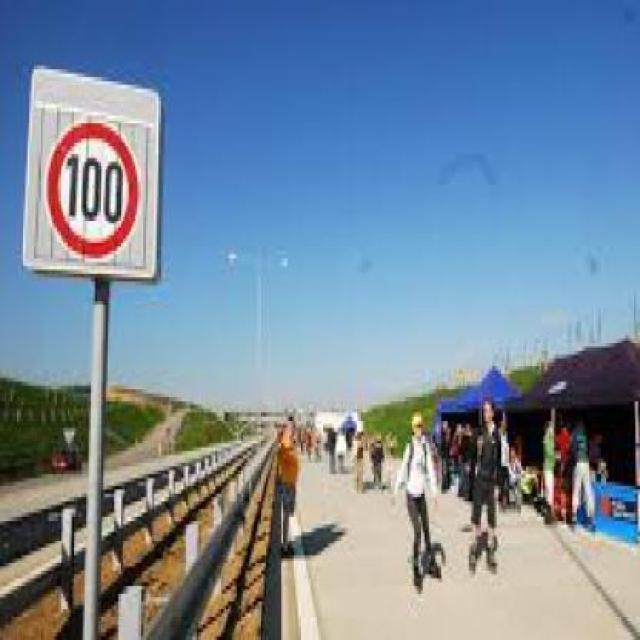forb_speed_over_100: (52, 125, 135, 254)
